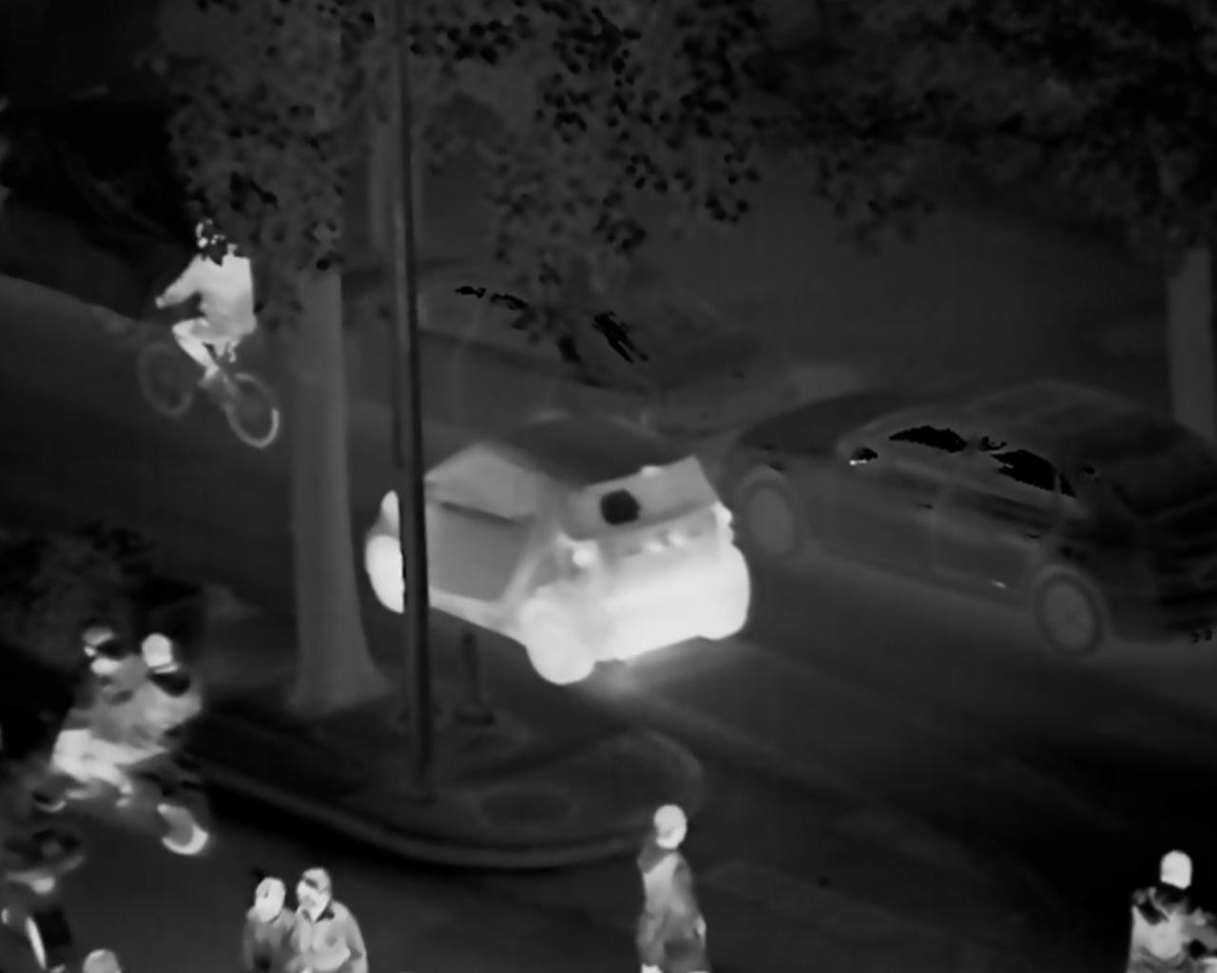person: (148, 208, 257, 398), (61, 620, 157, 807), (614, 792, 712, 973), (130, 637, 211, 822), (1132, 845, 1217, 973), (295, 850, 370, 973), (228, 868, 298, 973)
